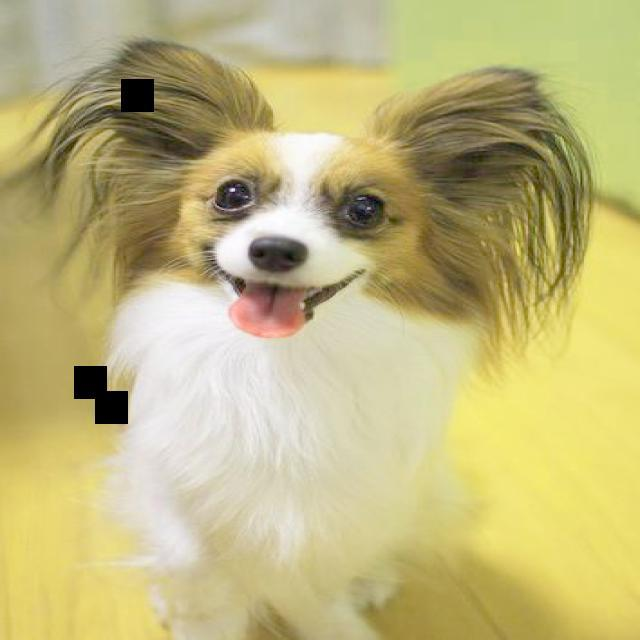adult_dog: (9, 34, 599, 640)
